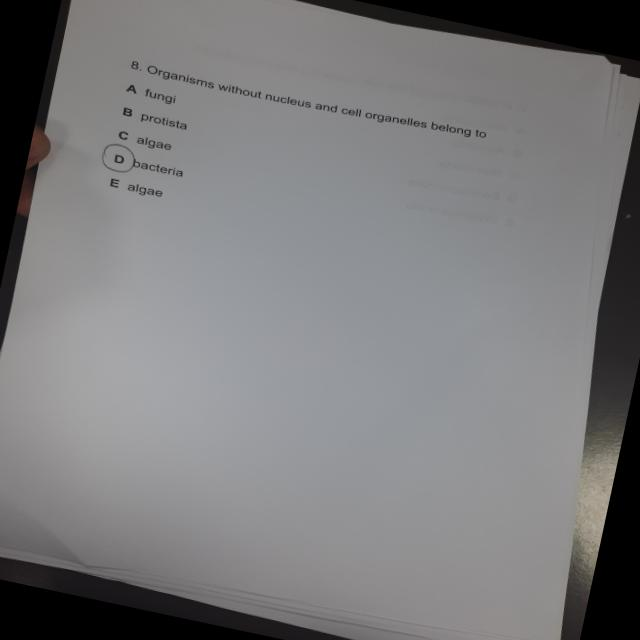D: (97, 141, 141, 178)
